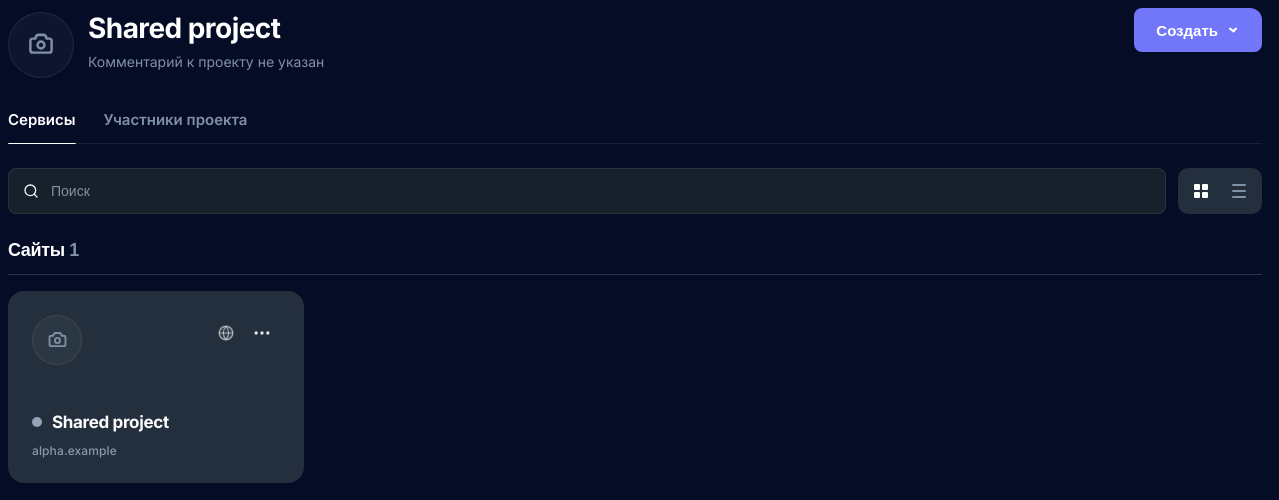
Test: SiteProjectLayout child sites › opens create dropdown with site item
The image size is (1279, 500).
Step 1. Click the button with test id "project-create-menu-trigger" → (1198, 30), box [1134,8,1262,52]
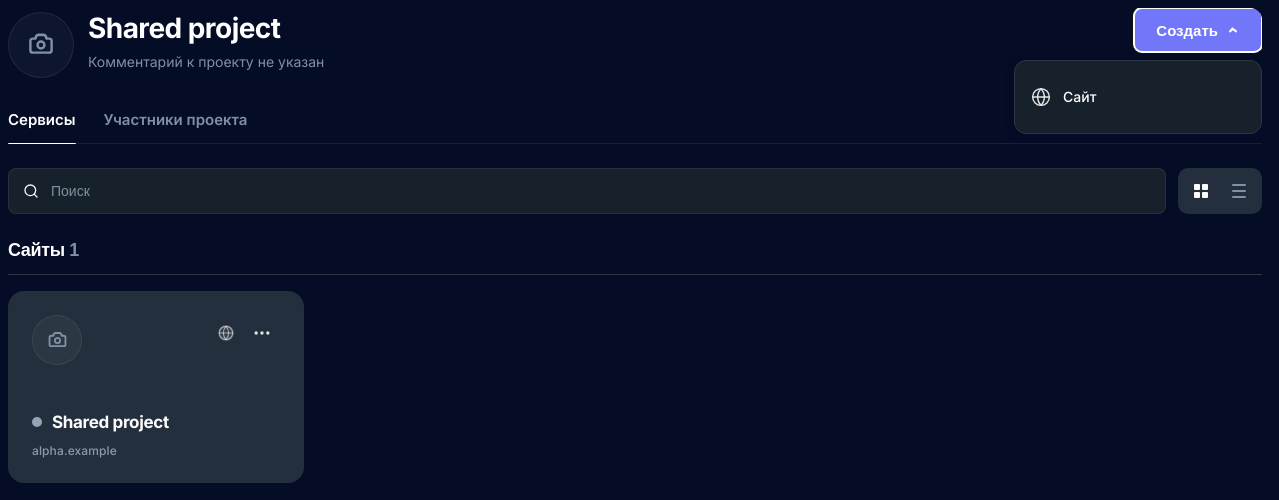
expect the menu with test id "project-create-menu-dropdown" is shown: met, box [1014,60,1262,134]
expect the menu item with test id "project-create-menu-site" reads "Сайт": met, box [1015,77,1261,117]
